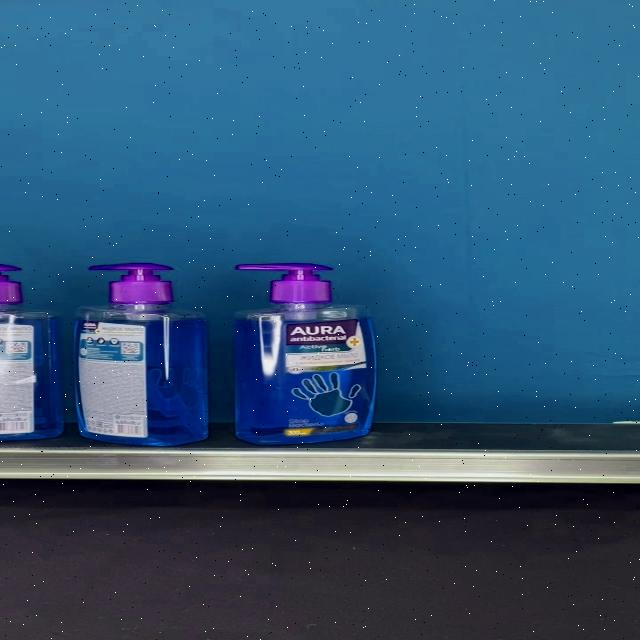Bottle: (233, 263, 376, 443), (72, 263, 207, 447)
Cap: (236, 263, 332, 305), (89, 263, 174, 305)
